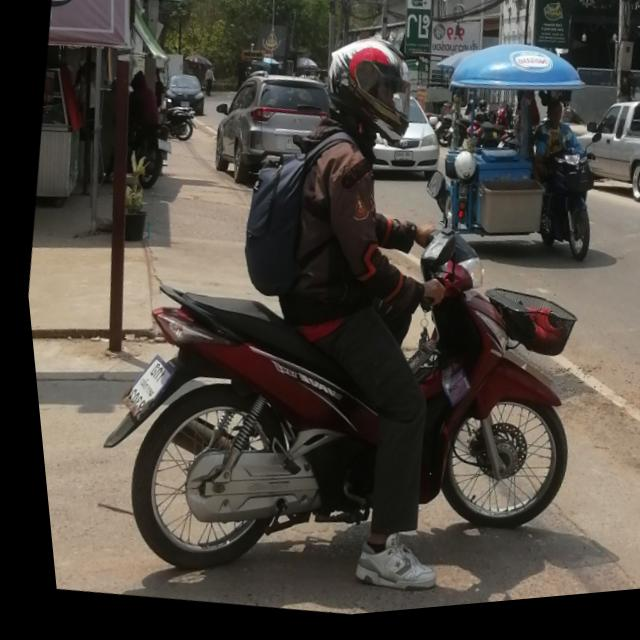helmet: (306, 28, 425, 163)
